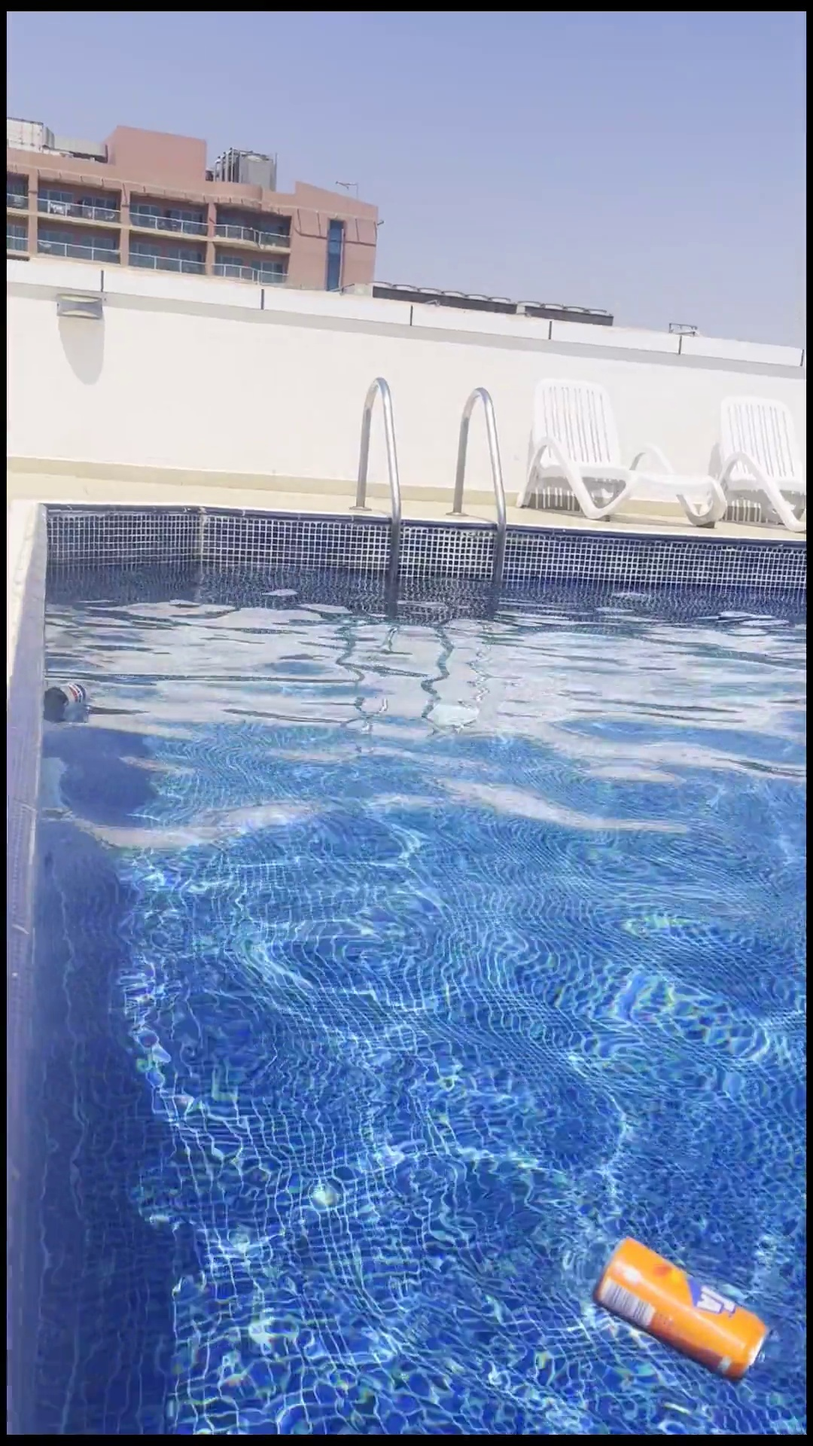debris: (590, 1200, 777, 1410)
